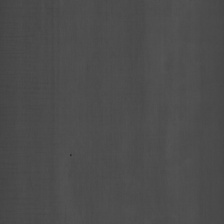inclusion: (65, 146, 77, 163)
